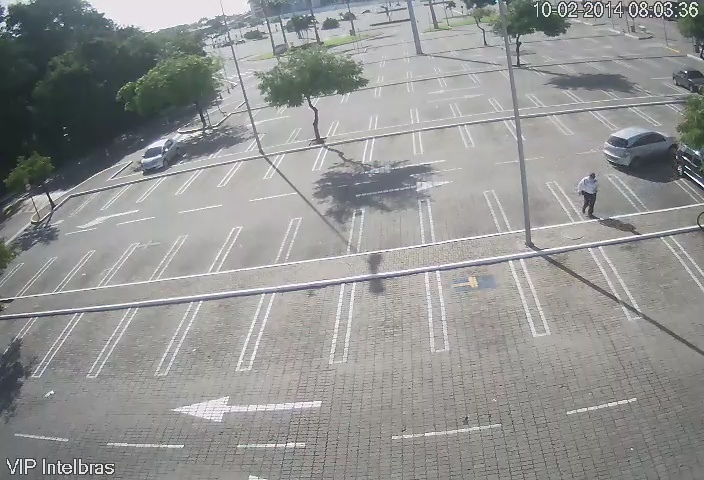car: (136, 140, 178, 171)
lot: (430, 257, 543, 344), (340, 266, 437, 362), (510, 252, 619, 333), (590, 231, 704, 307), (262, 278, 341, 368), (183, 288, 259, 377), (106, 299, 179, 379), (52, 298, 114, 379), (617, 161, 695, 215), (492, 184, 578, 232), (352, 205, 428, 254), (559, 173, 635, 222), (424, 195, 501, 242), (19, 313, 65, 379), (289, 213, 355, 256), (166, 226, 220, 275), (233, 221, 286, 270), (77, 245, 117, 294), (126, 235, 167, 282), (417, 130, 472, 160), (321, 138, 368, 173), (269, 149, 319, 181), (506, 118, 565, 145), (458, 124, 519, 150), (368, 135, 420, 164), (553, 108, 605, 137), (230, 158, 274, 190), (188, 161, 230, 193), (593, 105, 654, 127), (41, 256, 70, 297), (410, 102, 459, 125), (570, 81, 615, 106), (116, 182, 145, 217), (328, 116, 376, 136), (1, 260, 28, 295), (154, 175, 184, 206), (639, 105, 688, 122), (373, 108, 414, 128), (536, 87, 575, 108), (455, 98, 497, 117), (493, 95, 539, 112), (294, 121, 331, 142), (61, 194, 87, 223), (84, 192, 111, 219), (252, 132, 293, 147), (220, 139, 251, 154)
